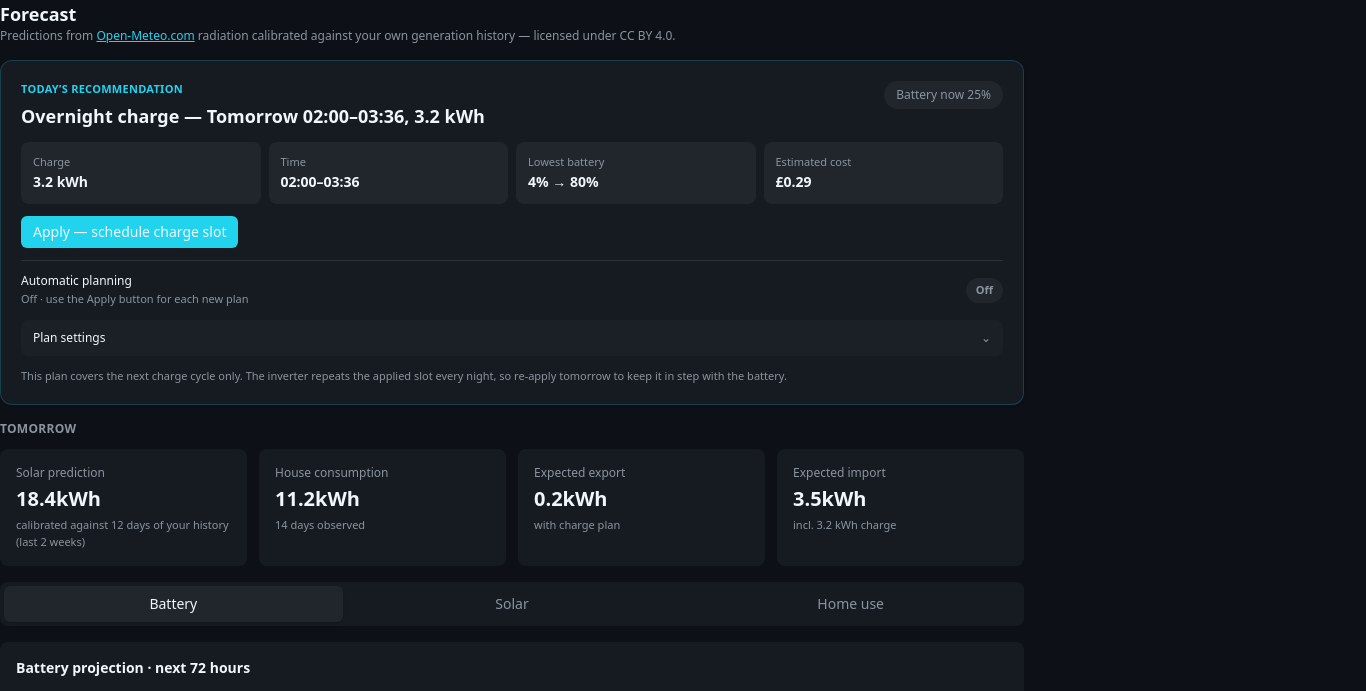
Test: ForecastPage plan card › clears the forecast slot when timed charge enabling fails after slot write
Click the button with test id "forecast-plan-apply" at (130, 232), box [21, 216, 238, 248]
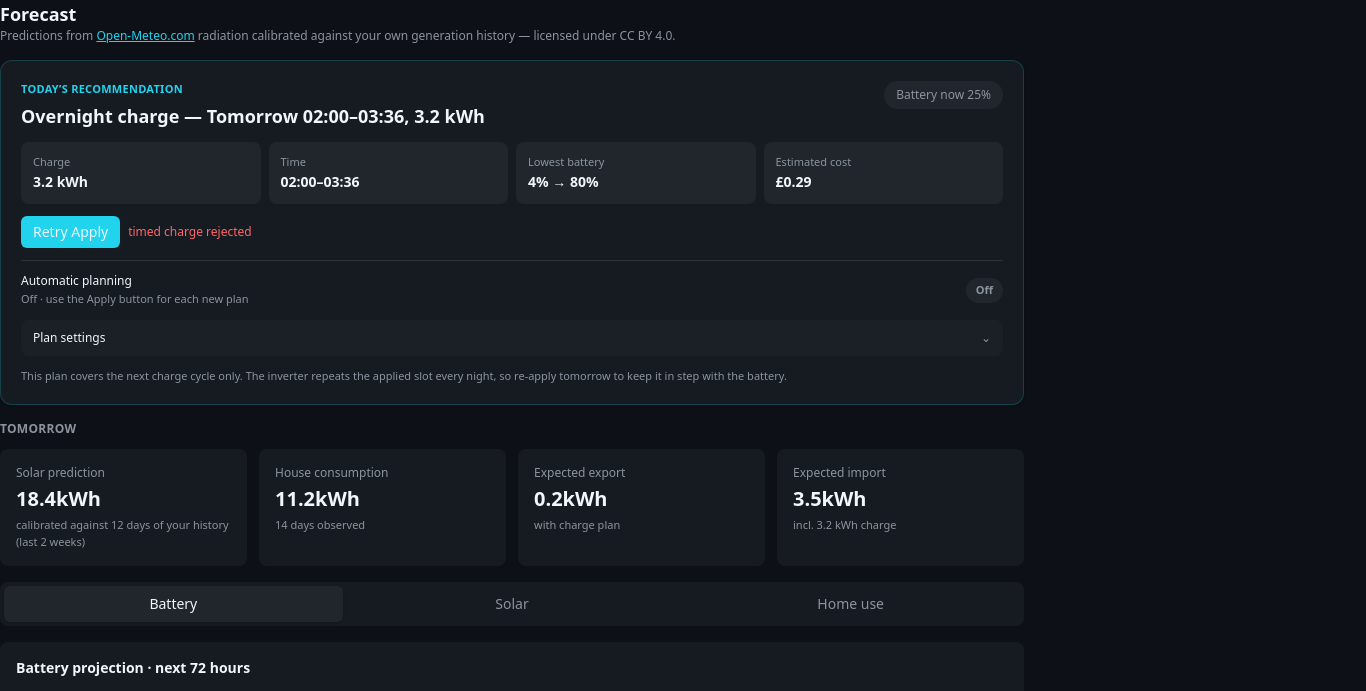
expect the message reads "timed charge rejected": met, box [128, 223, 252, 240]
